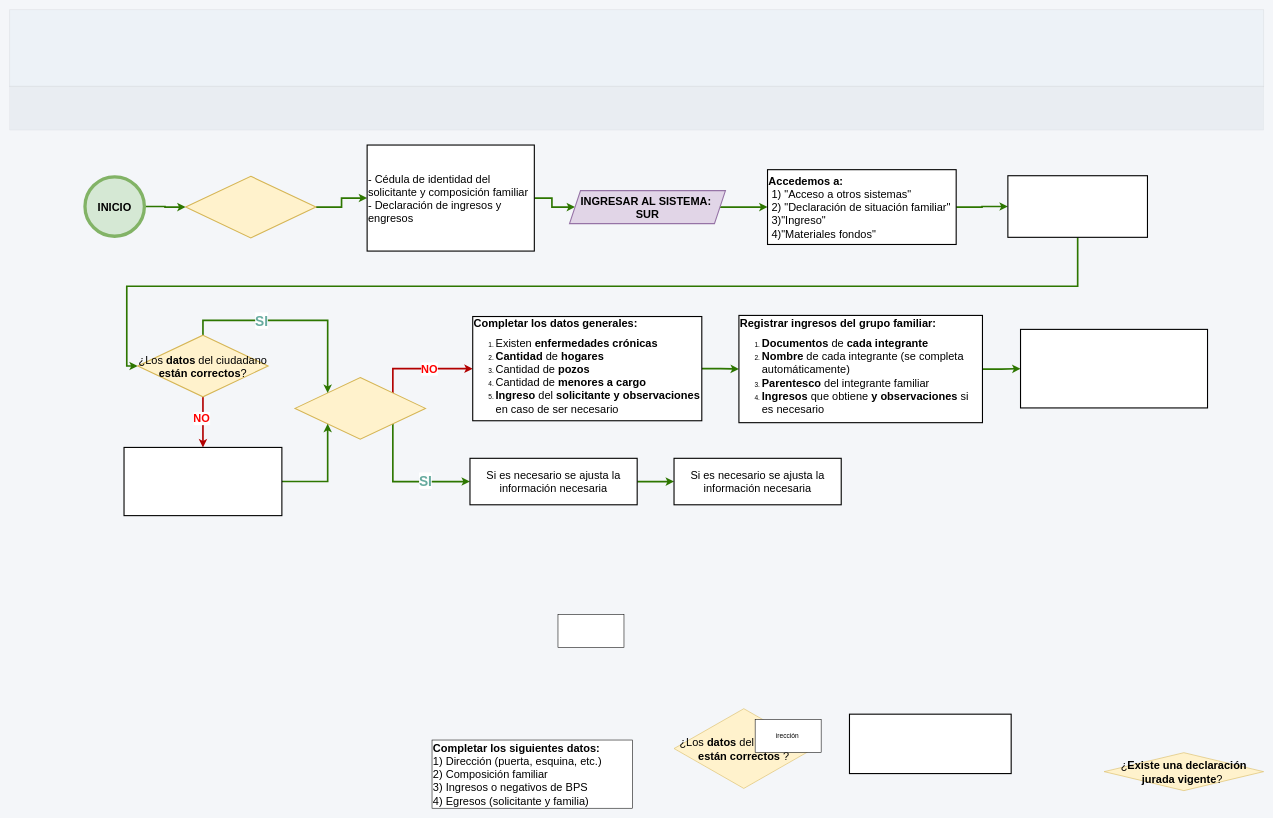
Some shapes in this 1273 by 818 pixel diagram are drawn without their labels. The shapes that lost their labels are listed below. From the top down, each one's centre as x and y in pixels, then its label:
(x=250, y=206): ¿Qué documentación debe presentar el ciudadano?
(x=1077, y=206): Ingresamos la cédula de identidad del ciudadano (clic "lupa")
(x=1114, y=368): Registrar egresos del grupo familiar: Indicar el nombre del egreso y su valor
(x=360, y=408): ¿El ciudadano tiene una declaración jurada vigente ?
(x=202, y=481): Cliquear: "Modificador de persona" para corregir los datos Por último "guardar"
(x=590, y=631): eclaracióm
(x=930, y=743): Cliquear "Modificador de persona" para corregir los datos Por último "guardar"
